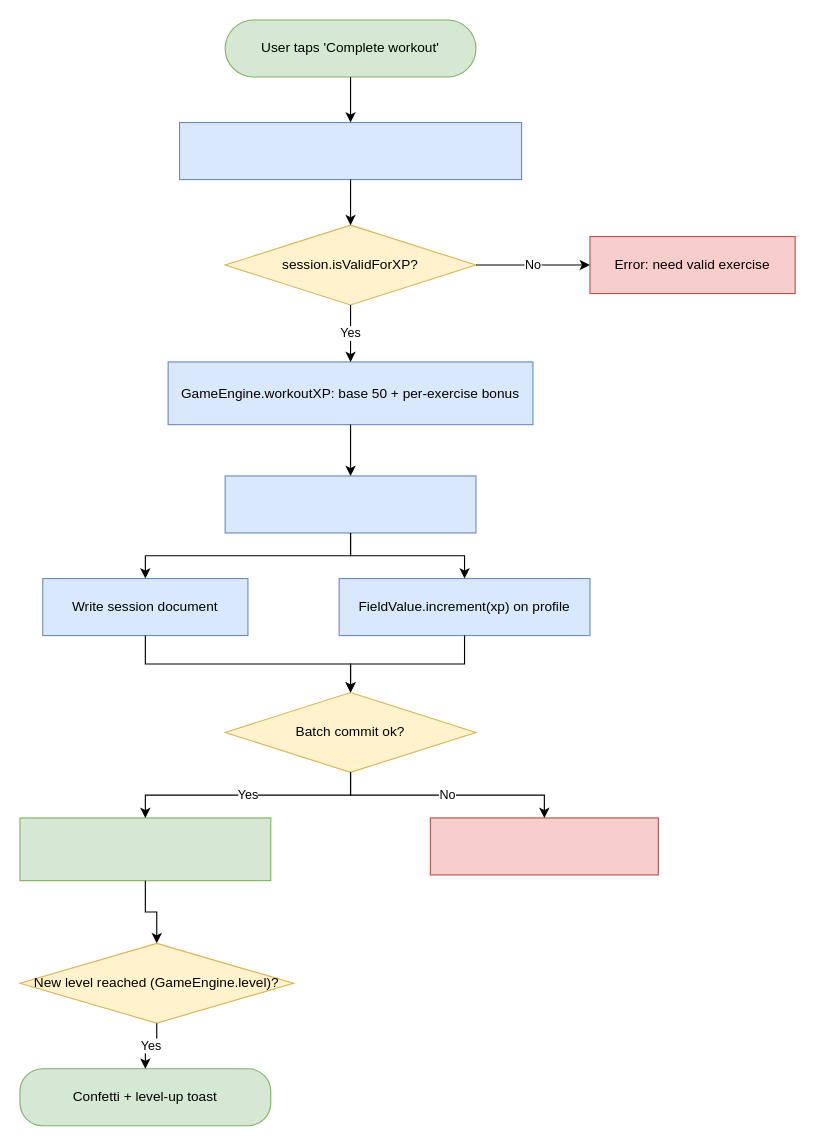
The diagram is 815 pixels wide and 1146 high, and some of its shapes have lost their labels. The shapes that lost their labels are listed below. From the top down, each one's centre as x and y in pixels, then its label:
At point (350, 150): "WorkoutViewModel.completeSession()".
At point (350, 504): "Firestore batch write".
At point (145, 849): "Reset currentSession, toast success".
At point (543, 846): "errorMessage displayed".
